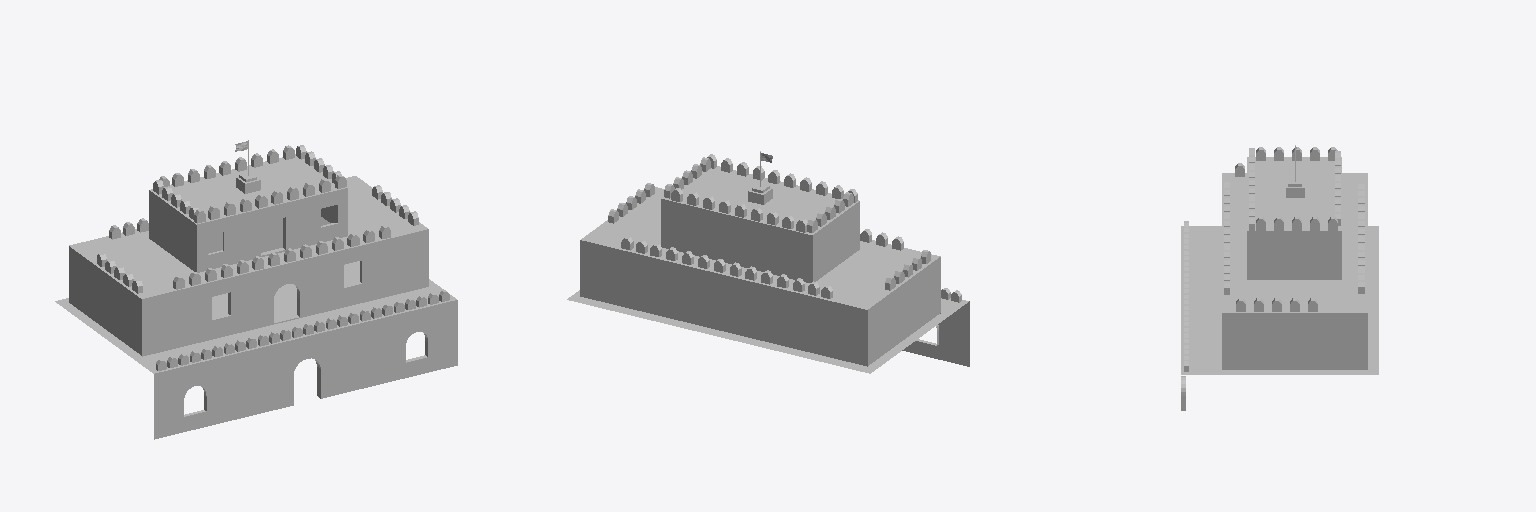
Rendered from castle_interior.obj.
3 renders of one model, left to right at view 1: azimuth 30°, elevation 25°; view 2: azimuth 150°, elevation 25°; view 3: azimuth 270°, elevation 25°, orthographic.
Visible parts, largest first — view 1: Castle_Interior; view 2: Castle_Interior; view 3: Castle_Interior.
Boxes of the visible parts, x1=… form: Castle_Interior: x1=55, y1=140, x2=457, y2=439; Castle_Interior: x1=567, y1=151, x2=969, y2=373; Castle_Interior: x1=1181, y1=145, x2=1378, y2=410.
Size of the model in its own units: 41.04 by 28.46 by 23.2.